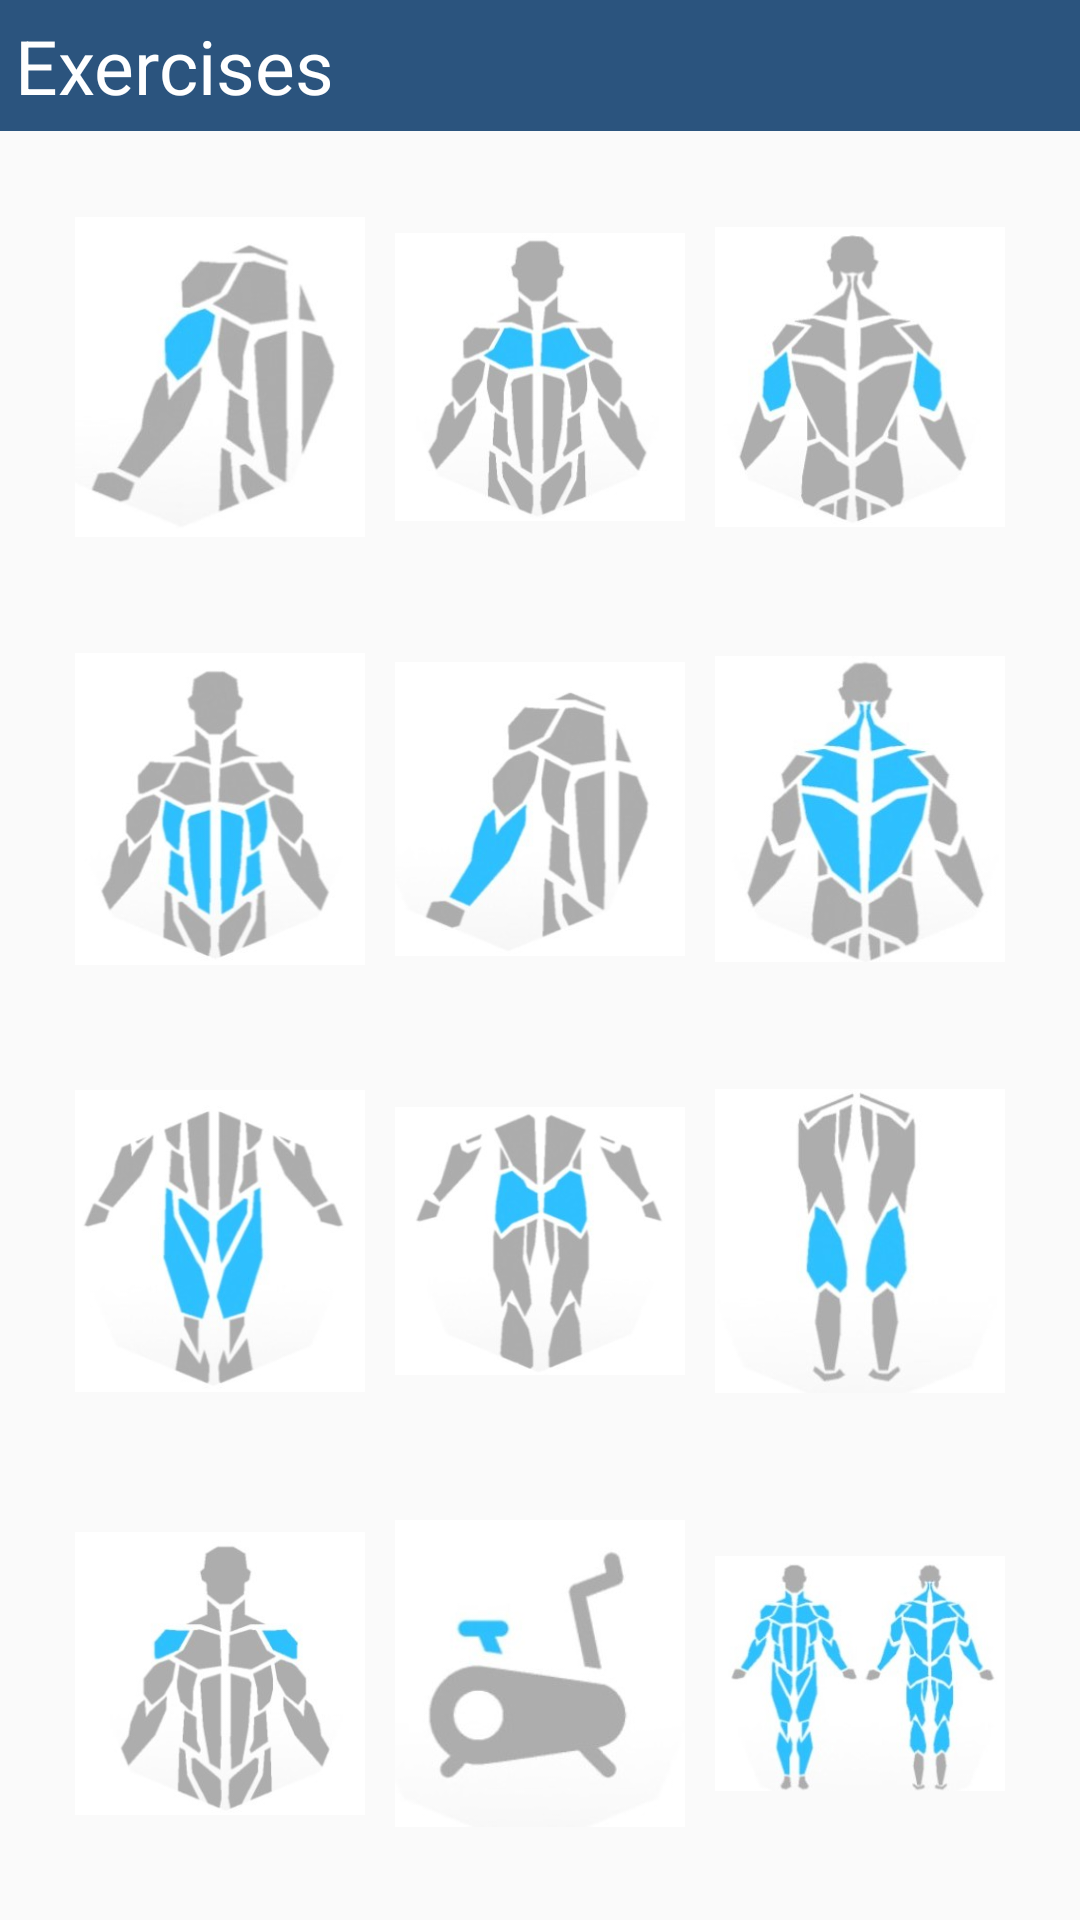

Named icons in this screenshot (1080 x 1920) and their centers, point (x, y):
all: point (863, 1677)
back: point (865, 811)
biceps: point (213, 378)
calves: point (856, 1237)
cardio: point (527, 1665)
chest: point (537, 377)
core: point (215, 814)
forearms: point (537, 815)
glutes: point (539, 1242)
shoulder: point (225, 1677)
triceps: point (853, 378)
upperlegs: point (214, 1247)
